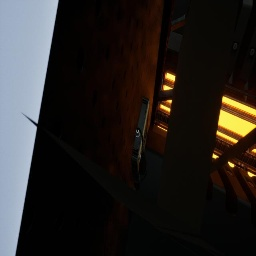EmergencyPhone ,: (131, 97, 150, 190)
SafetySwitchPanel ,: (21, 0, 256, 256)
